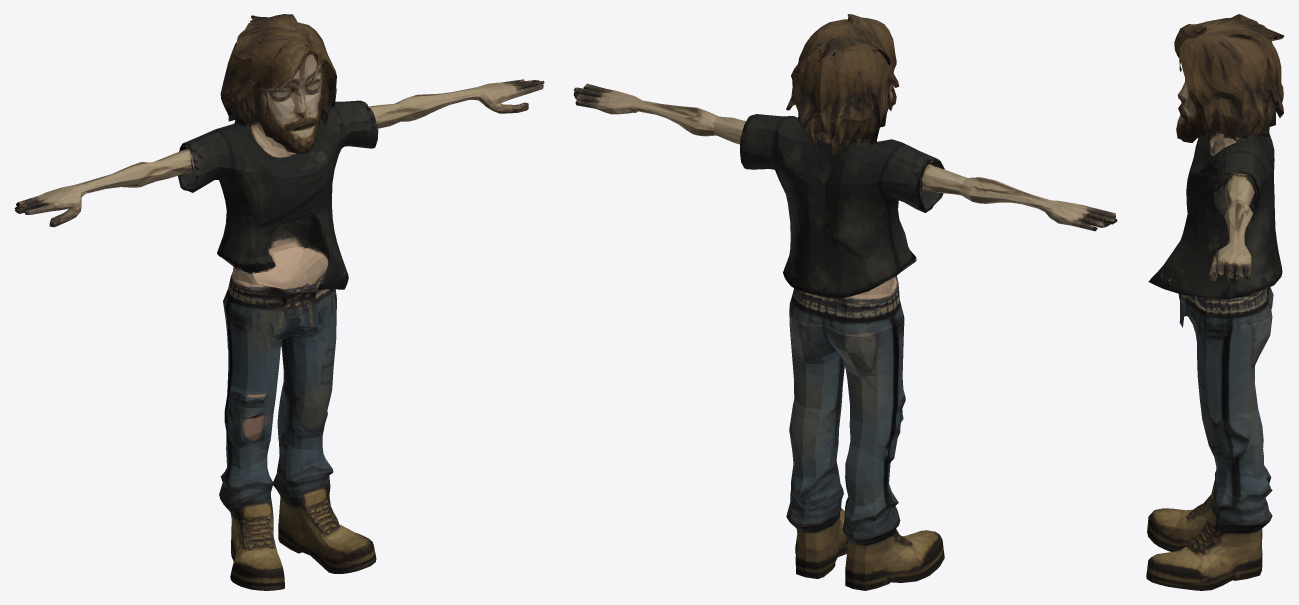
Rendered from hobo_t.glb.
3 views of the same model, side by side, from view 1: azimuth 30°, elevation 25°; view 2: azimuth 150°, elevation 25°; view 3: azimuth 270°, elevation 25° (orthographic). The views are drawn at different scales.
Parts seen in each view (by area): view 1: world; view 2: world; view 3: world.
Part boxes in pixels (x1,y1,x2,y2): world: (14, 14, 544, 590); world: (573, 14, 1117, 590); world: (1146, 14, 1284, 590).
Size of the model in its own units: 0.997 by 0.9694 by 0.2242.
Materials: 1 (1 with a texture image).
